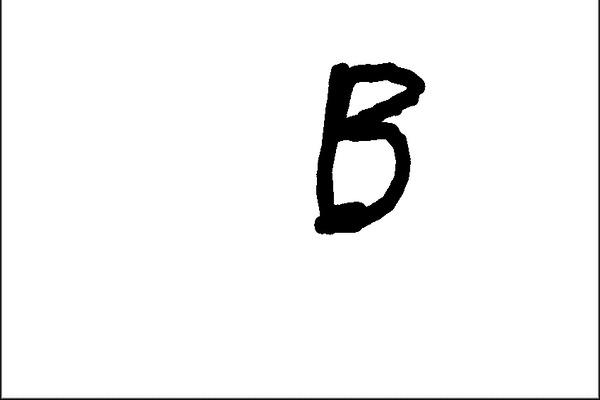B: (311, 54, 428, 246)
